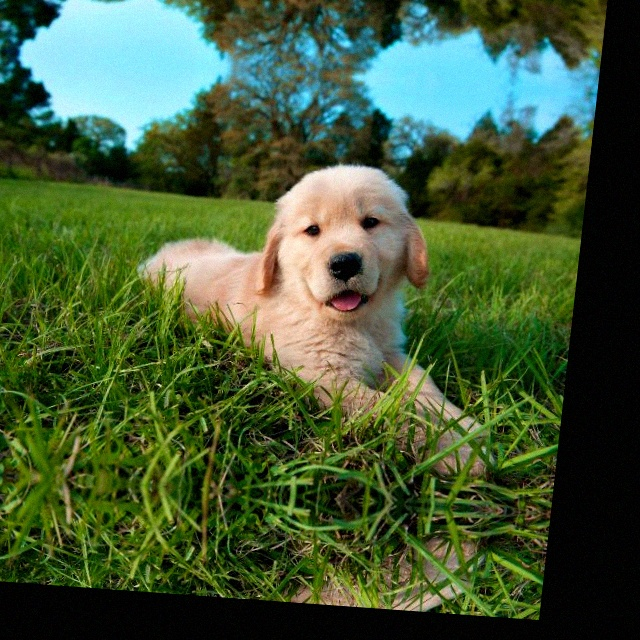dog: (108, 128, 533, 465), (91, 527, 488, 616), (157, 0, 551, 22)
